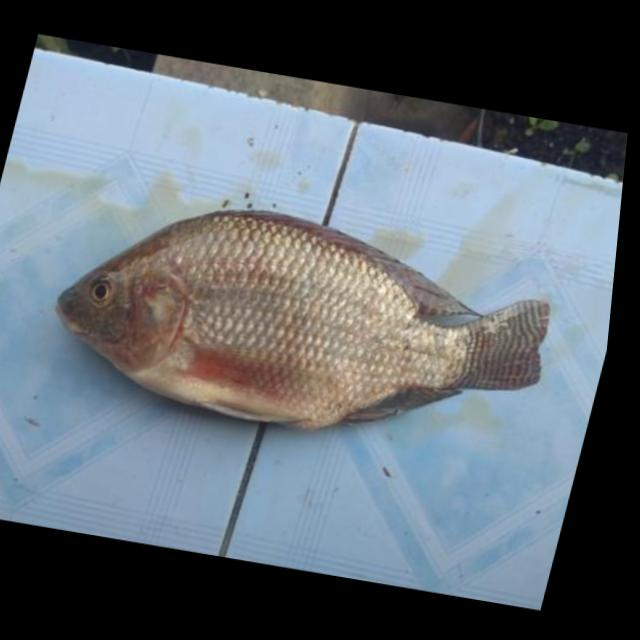Tilapia: (26, 183, 575, 470)
